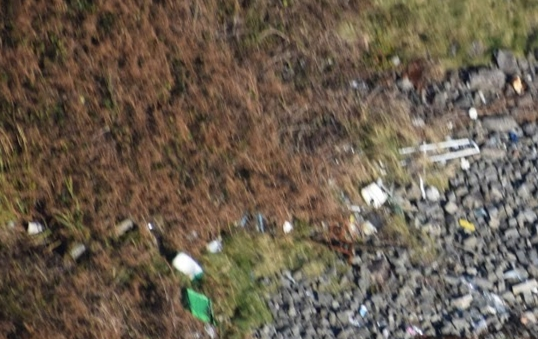scattered_barrel: (20, 192, 294, 329)
together_barrel: (324, 48, 528, 241)
